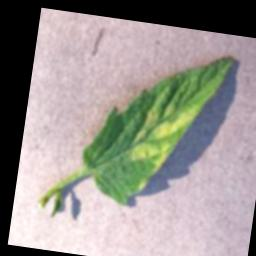Leaf_Mold: (123, 97, 201, 198)
